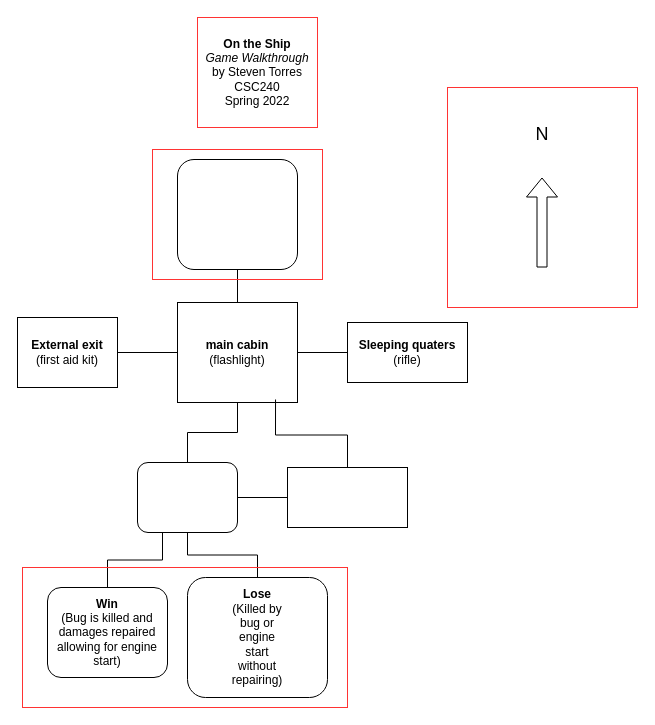
Image size: 655x725. Some labels were removed from this diagram. The shapes that lost their labels are listed below. From the top down, each one's centre as x and y in pixels, then its label:
point (237, 214): Cockpit (Start)
point (187, 497): Engine Room (Bug) (damage)
point (347, 497): Storage bay (tool box)
